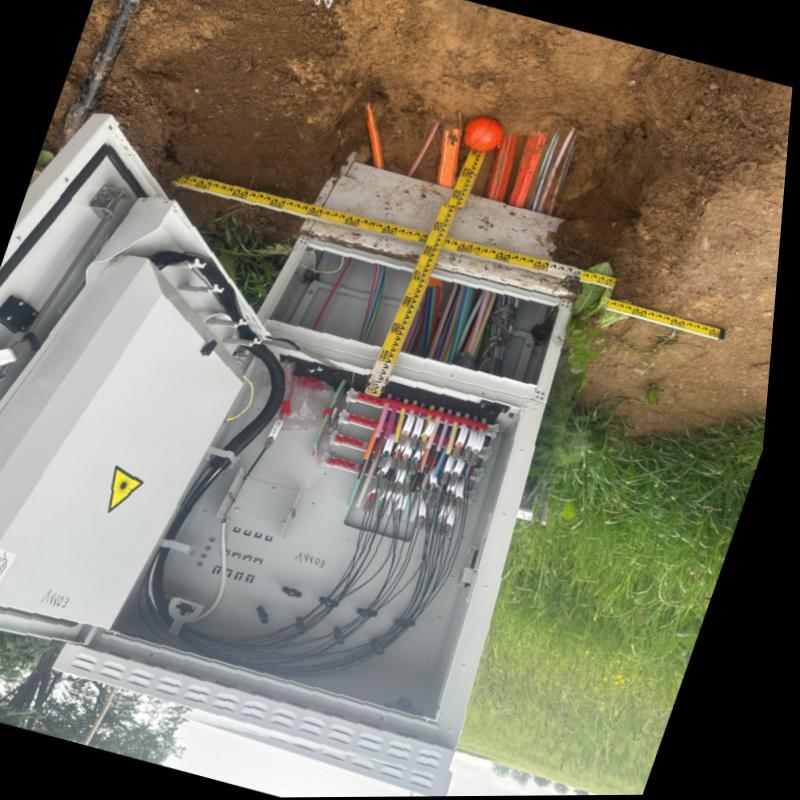Kugelmarker: (465, 118, 506, 152)
NT-Gehause: (0, 113, 590, 782)
Orang-Speednetrohrchen: (511, 137, 548, 208), (490, 136, 519, 201), (441, 128, 463, 188)
